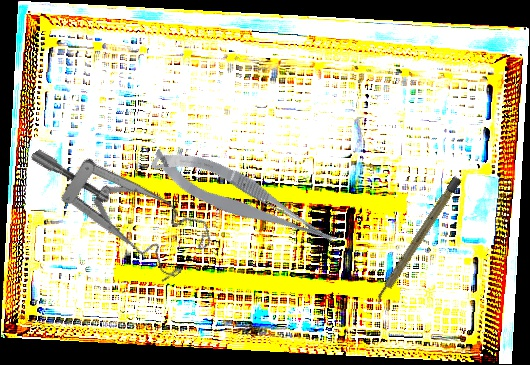Micro Scissor: (145, 130, 343, 271)
Scalpel Handle: (373, 175, 462, 306)
Speculum: (28, 94, 222, 307)
